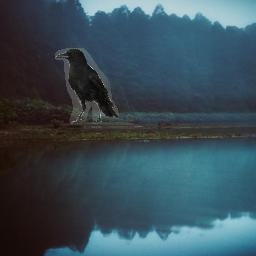Crow: (55, 48, 119, 124)
